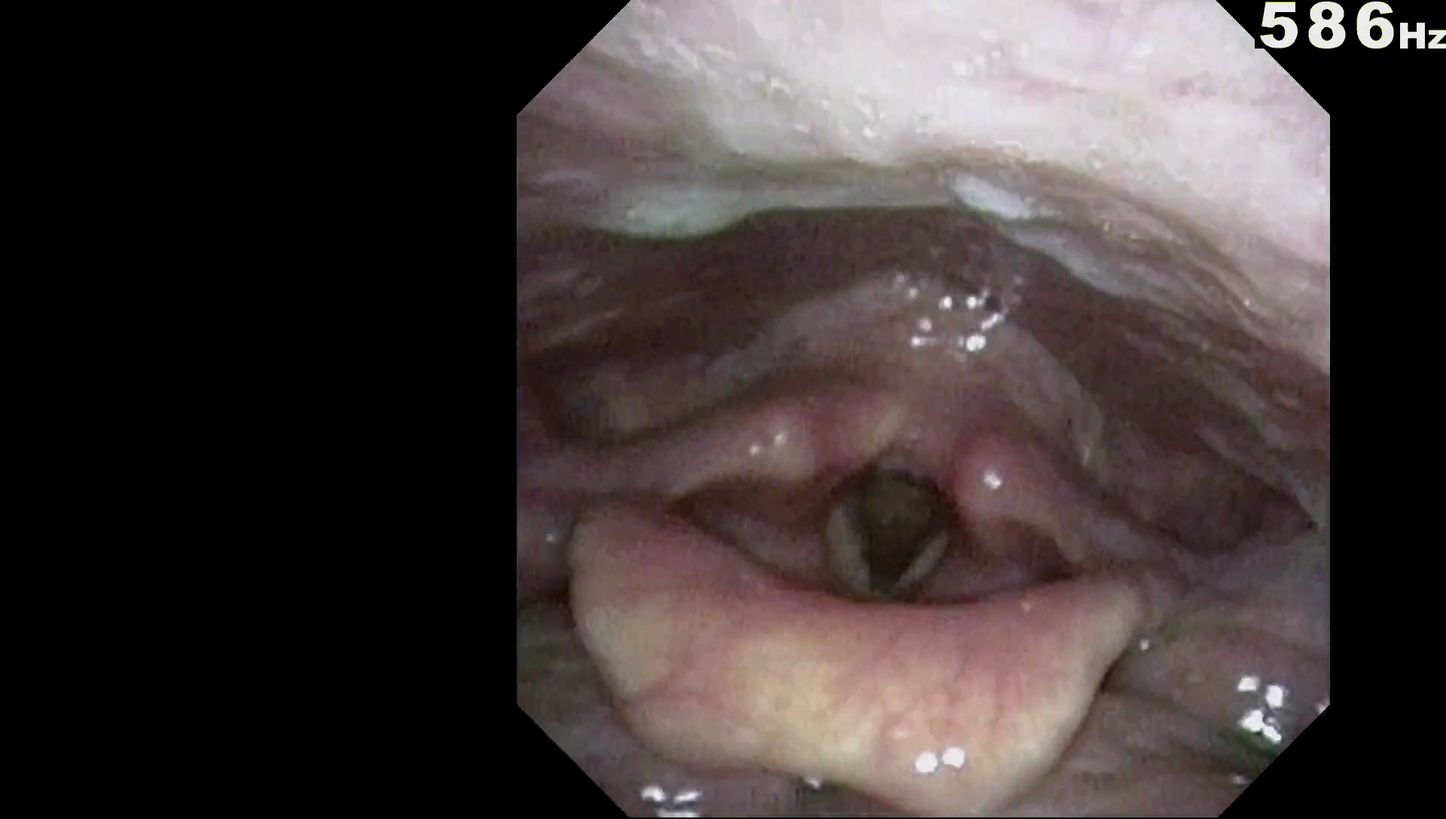trachea: (803, 437, 973, 619)
